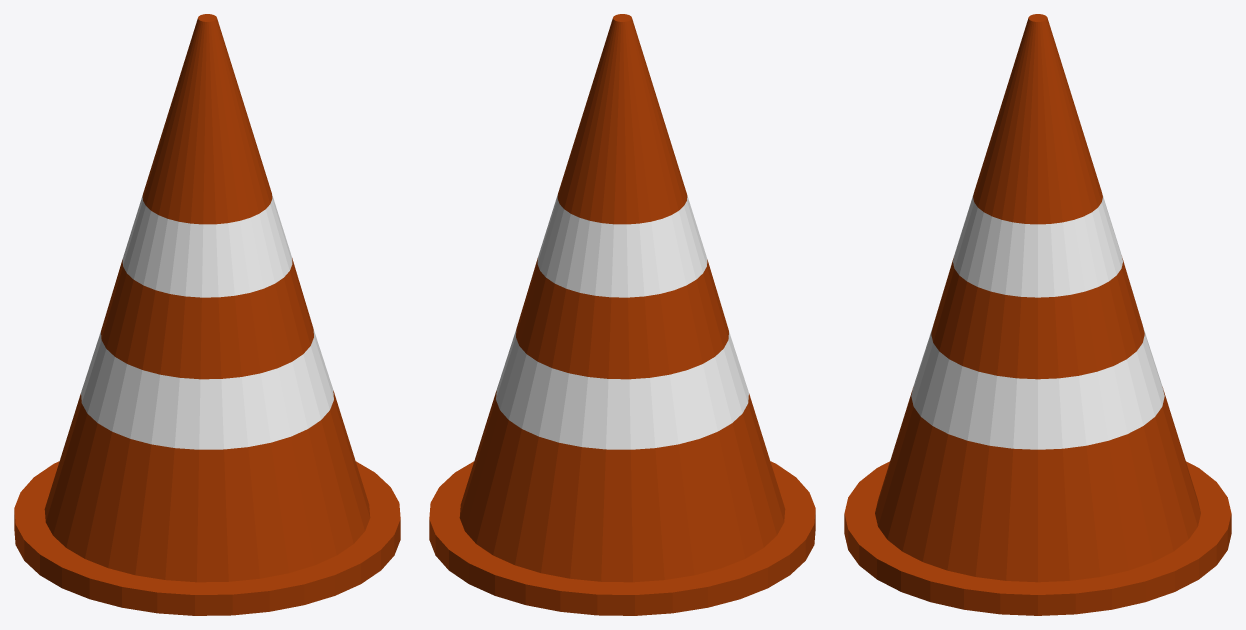
File: LargeOrangeCone.fbx
3 renders of one model, left to right at view 1: azimuth 30°, elevation 25°; view 2: azimuth 150°, elevation 25°; view 3: azimuth 270°, elevation 25°, orthographic.
Visible parts, largest first — view 1: Cylinder yellow; view 2: Cylinder yellow; view 3: Cylinder yellow.
Part boxes in pixels (box(x1,y1,x2,y2)): Cylinder yellow: box(14, 14, 400, 615); Cylinder yellow: box(429, 14, 815, 615); Cylinder yellow: box(844, 14, 1231, 615).
Bounding box in the file's own units: 276 × 406 × 276.
